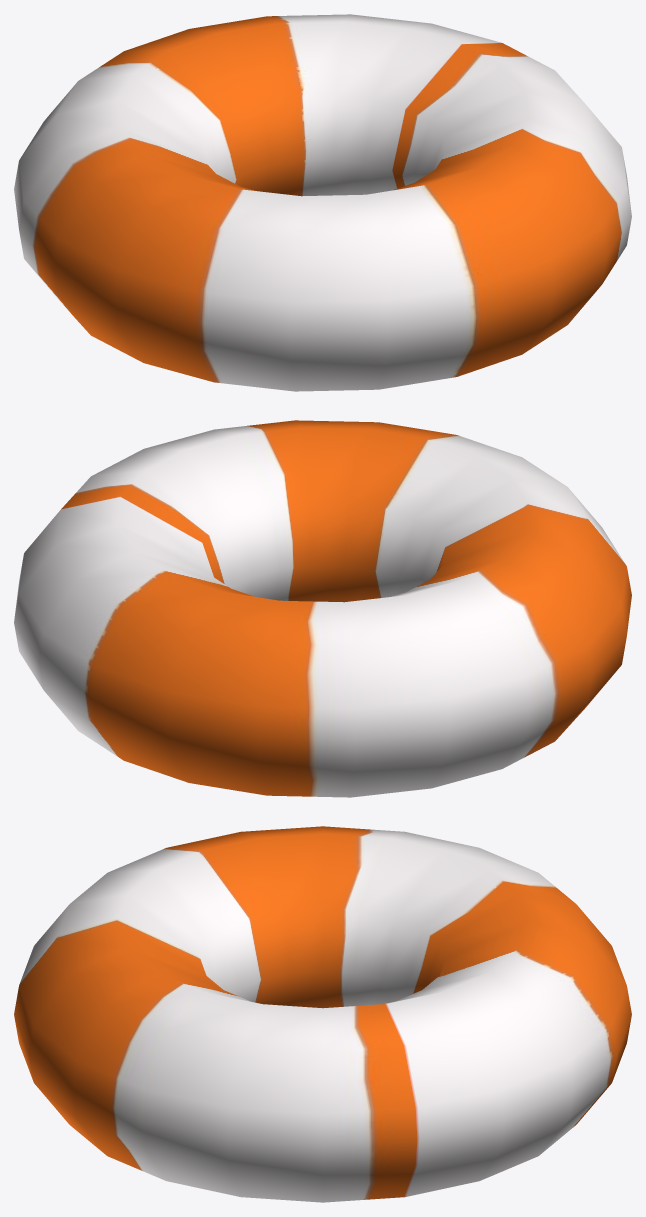
The model's file is swimring.fbx.
The picture shows the model from 3 angles, top to bottom: view 1: azimuth 30°, elevation 25°; view 2: azimuth 150°, elevation 25°; view 3: azimuth 270°, elevation 25°; orthographic projection.
Parts seen in each view (by area): view 1: swimring; view 2: swimring; view 3: swimring.
Boxes of the visible parts, x1,y1,x2,y2 form: swimring: (14, 14, 631, 391); swimring: (14, 420, 631, 797); swimring: (14, 826, 631, 1202).
Size of the model in its own units: 3 by 1 by 3.
1 material, 1 textured.
